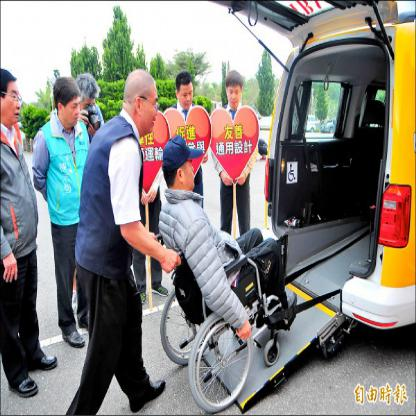wheelchair: (159, 132, 299, 414)
